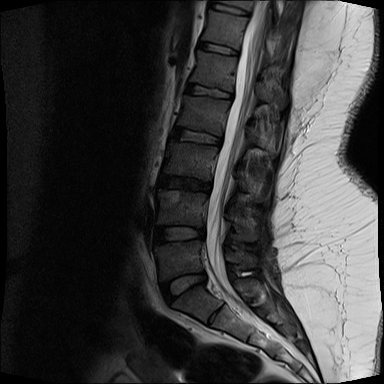Degenerative Disc Disease (DDD): (147, 173, 219, 199)
Lumbar Disc Bulge (LDB): (153, 262, 223, 310), (147, 222, 216, 249)
Normal IVD: (165, 121, 227, 150), (178, 78, 237, 103), (193, 34, 241, 62), (205, 1, 251, 20)
Spinal Stenosis (SS): (185, 258, 218, 294), (185, 219, 222, 250)
